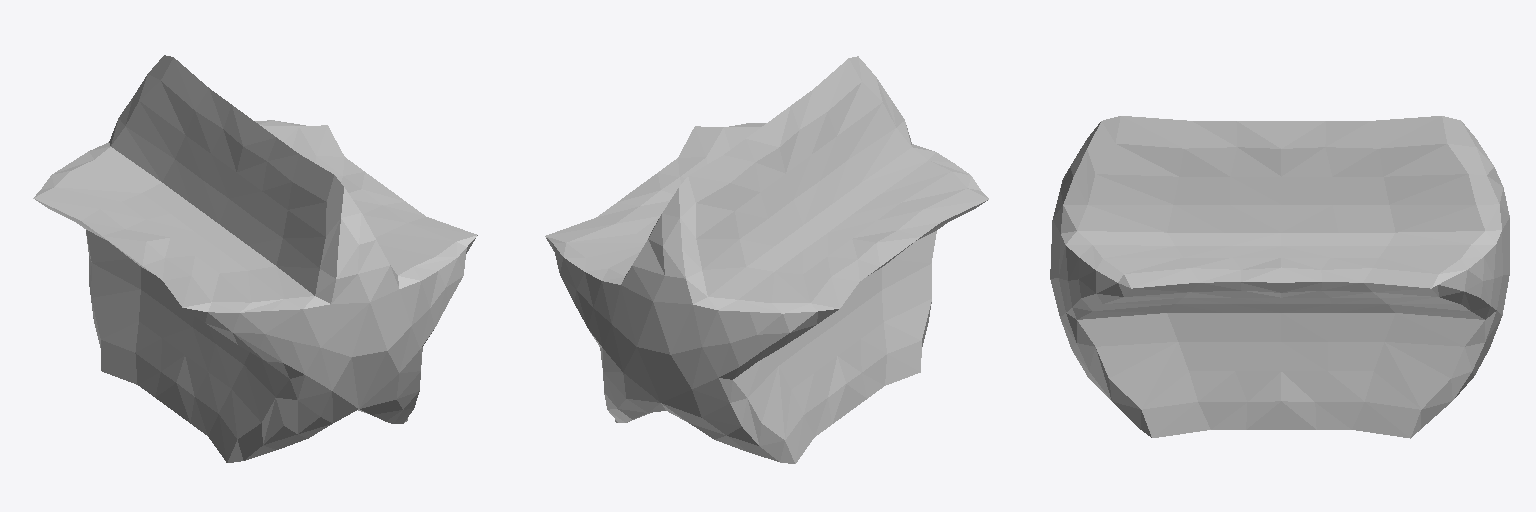
Rendered from luxoball_1.obj.
The picture shows the model from 3 angles: view 1: azimuth 30°, elevation 25°; view 2: azimuth 150°, elevation 25°; view 3: azimuth 270°, elevation 25°; orthographic projection.
Parts seen in each view (by area): view 1: default.001; view 2: default.001; view 3: default.001.
Part boxes in pixels (x1,y1,x2,y2): default.001: (33, 55, 477, 462); default.001: (545, 56, 988, 463); default.001: (1050, 116, 1509, 438).
Size of the model in its own units: 0.6929 by 0.627 by 0.9348.